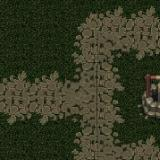Hide: (125, 59, 160, 134)
